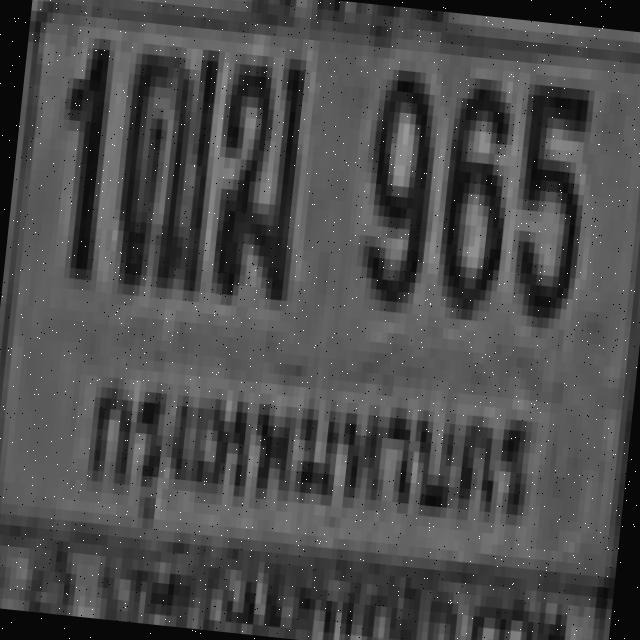1: (47, 31, 111, 274)
15KhorRaKhang: (205, 47, 306, 295)
27ThorPhuThao: (106, 31, 220, 291)
5: (502, 73, 592, 320)
6: (429, 76, 513, 312)
9: (352, 57, 438, 303)
Bangkok: (76, 343, 549, 577)
